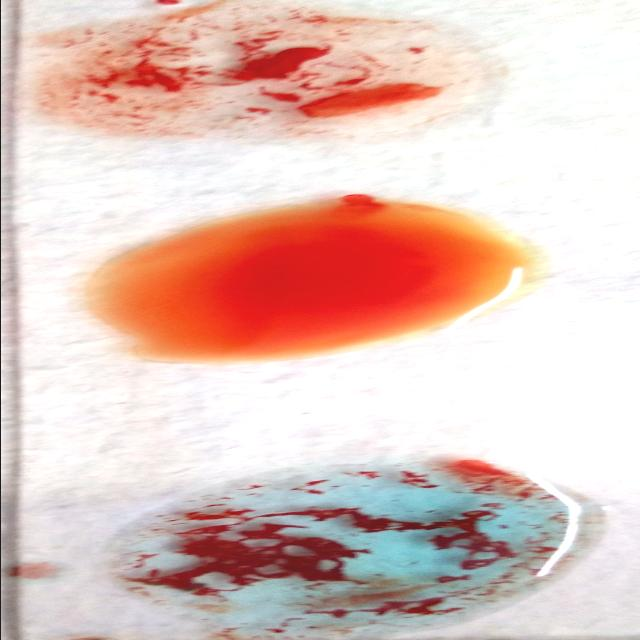A: (102, 468, 574, 626)
D: (36, 13, 494, 138)
